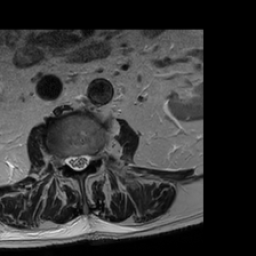CCS_stenosis: (74, 149, 82, 173)
LFS_stenosis: (90, 148, 98, 166)
LLS_normal: (82, 150, 89, 170)
RFS_normal: (58, 150, 66, 171)
RLS_normal: (66, 149, 74, 172)
